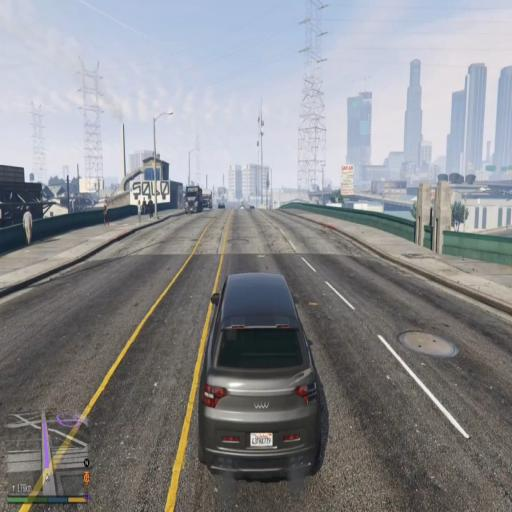Cars: (191, 267, 330, 488)
People: (22, 201, 38, 248), (100, 194, 114, 232), (134, 187, 144, 227), (144, 188, 155, 224)
Trucks: (185, 178, 214, 218)
